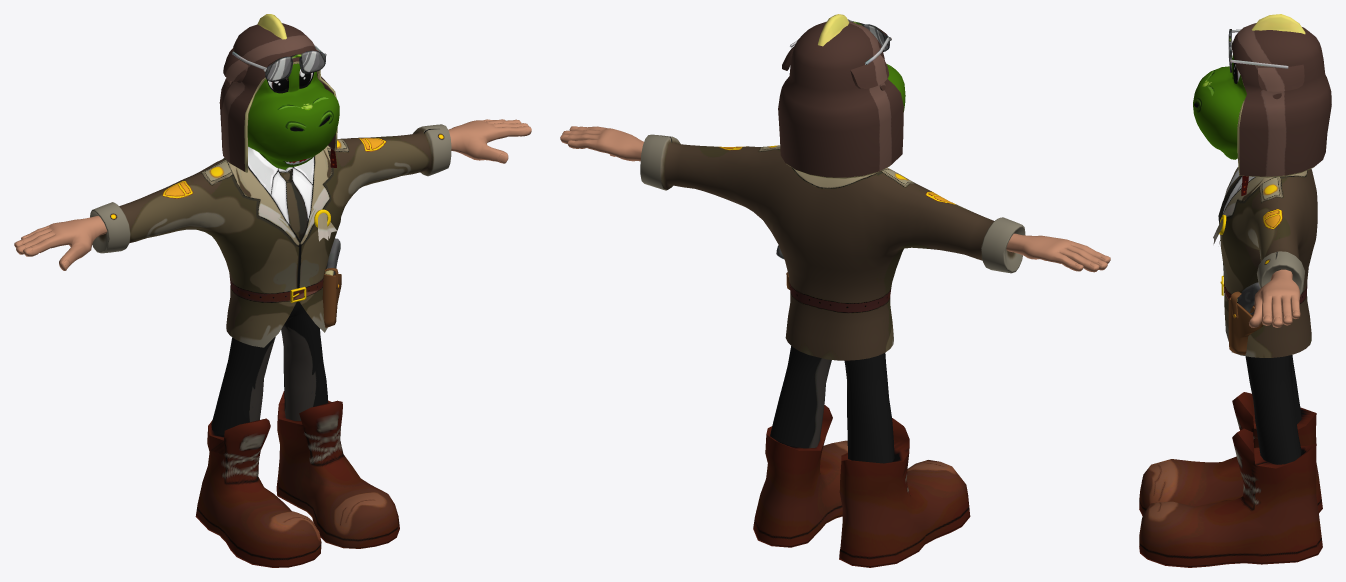
File: Fill dino plot .fbx
3 renders of one model, left to right at view 1: azimuth 30°, elevation 25°; view 2: azimuth 150°, elevation 25°; view 3: azimuth 270°, elevation 25°, orthographic. The views are drawn at different scales.
Visible parts, largest first — view 1: node_id4; view 2: node_id4; view 3: node_id4.
Part boxes in pixels (x1,y1,x2,y2): node_id4: [14, 14, 531, 567]; node_id4: [560, 14, 1110, 567]; node_id4: [1139, 14, 1331, 567].
Bounding box in the file's own units: 0.512 × 0.4711 × 0.1599.
Materials: 1 (1 with a texture image).
